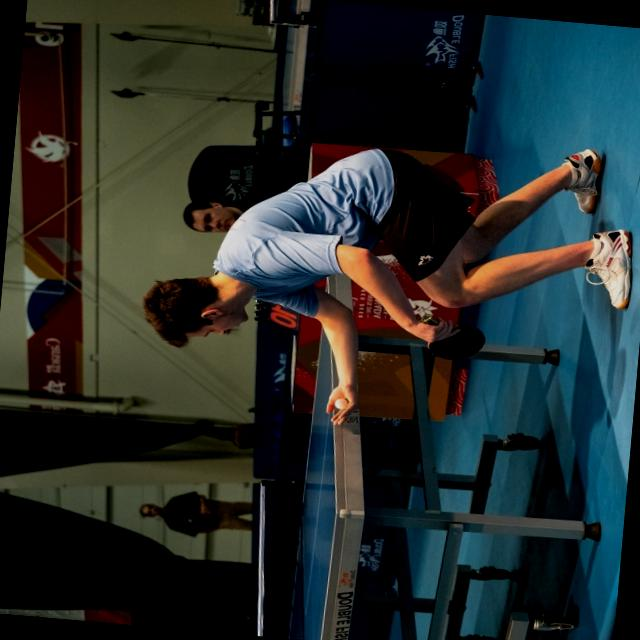TT Net: (257, 477, 308, 639)
TT Racket: (417, 308, 492, 366)
TT Table: (284, 271, 364, 640)
